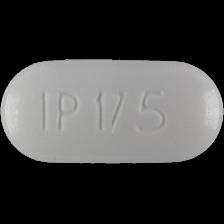65162-189: (0, 0, 224, 224)
